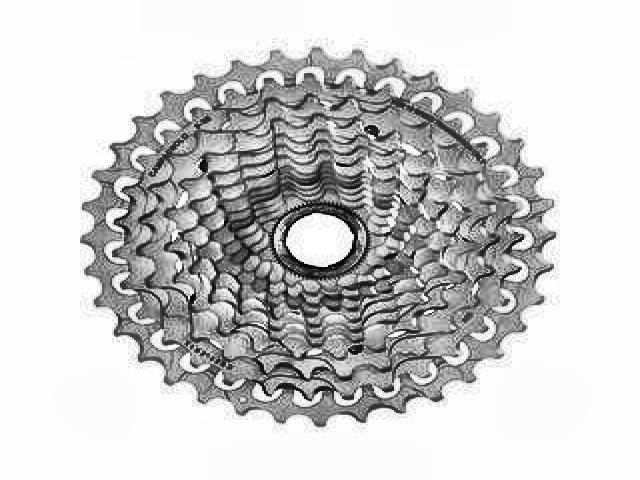cassette: (78, 44, 567, 428)
